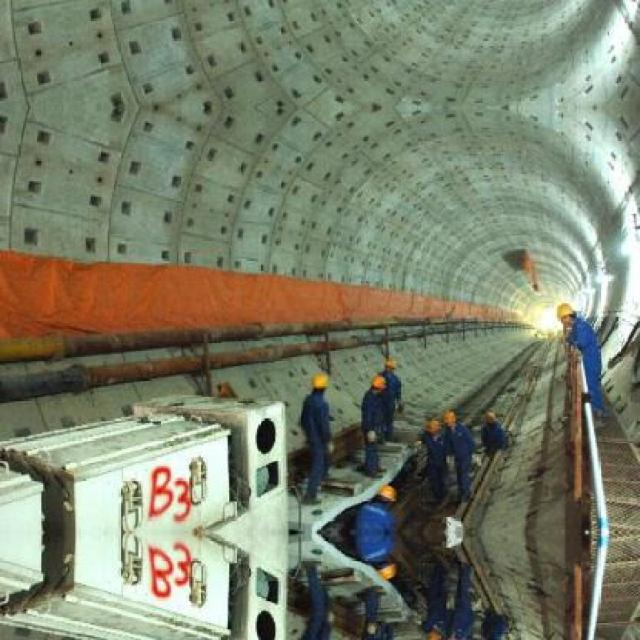helmet: (377, 480, 401, 506), (377, 556, 401, 582), (553, 298, 573, 324), (310, 369, 330, 394), (440, 404, 458, 427), (369, 372, 388, 392), (385, 352, 400, 371), (425, 412, 440, 431), (478, 408, 494, 422), (424, 631, 442, 638), (440, 634, 460, 638)
